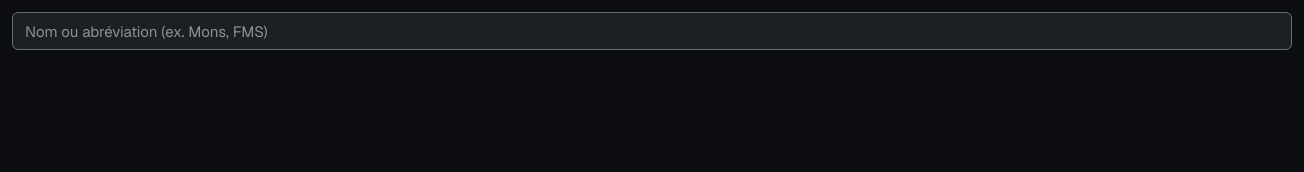
Scenario: StationInput (socle Combobox) › abréviation PtCar et nom NL proposent le nom FR ; Entrée choisit
In the dropdown named "Origine": (652, 31) [12,12,1292,50], type "FMS"
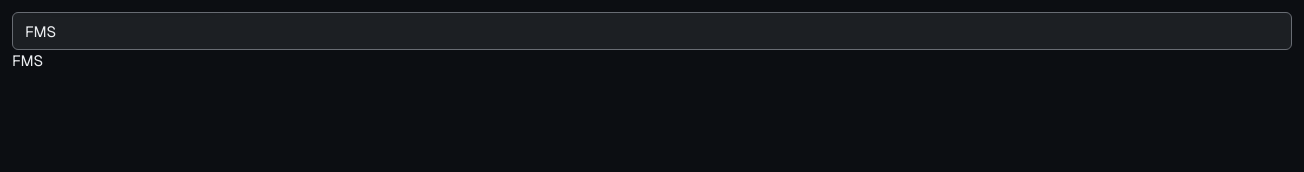
Replace the text in the dropdown named "Origine" with "berg": (652, 31) [12,12,1292,50]
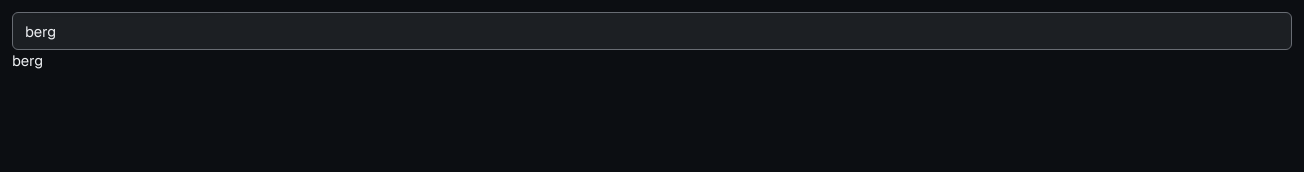
Press Enter in the dropdown named "Origine", box [12,12,1292,50]
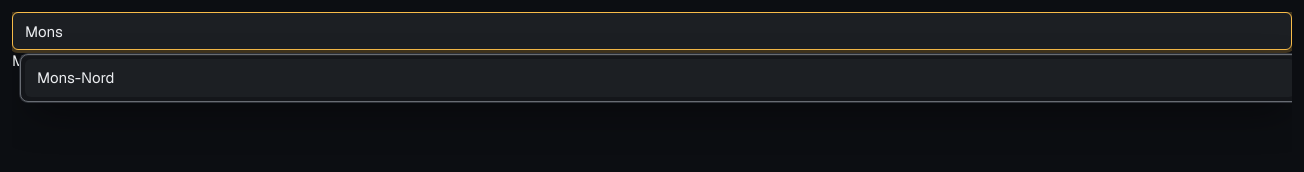
Check: the text with test id "v" reads "Mons", box [12,51,50,70]
